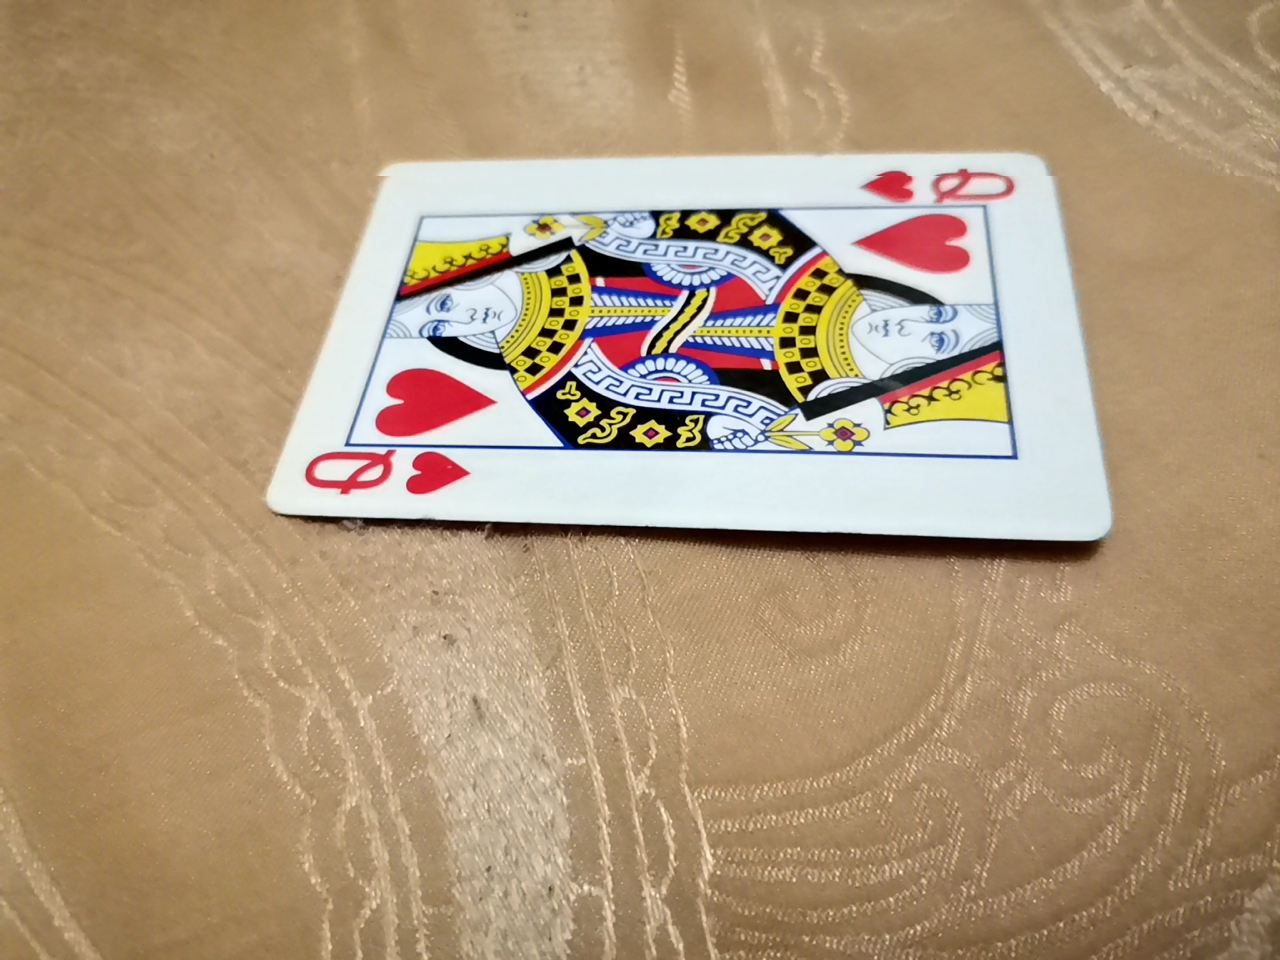hx q: (253, 142, 1102, 536)
